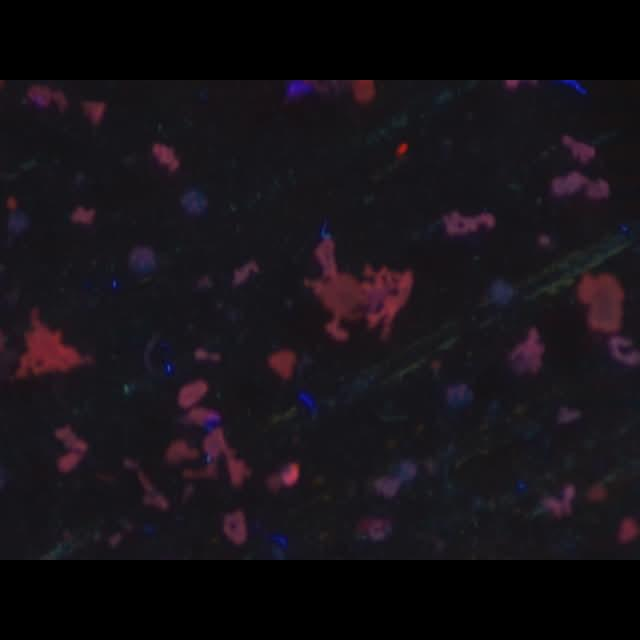Fragment: (304, 237, 412, 340)
